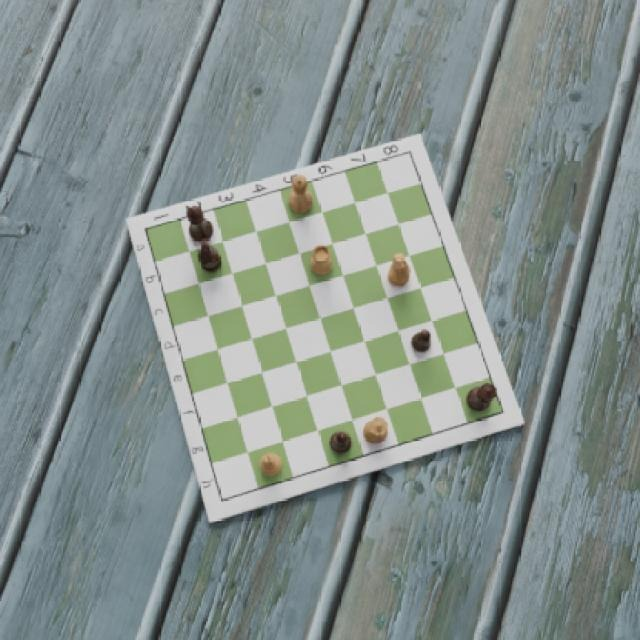black-bishop: (183, 202, 216, 242)
black-knight: (195, 236, 224, 275)
black-pawn: (410, 328, 434, 354), (329, 430, 355, 453)
black-queen: (466, 380, 497, 413)
white-bishop: (259, 450, 285, 480)
white-knight: (388, 251, 412, 288)
white-queen: (286, 174, 313, 218), (361, 415, 391, 446)
white-rook: (308, 245, 334, 278)
